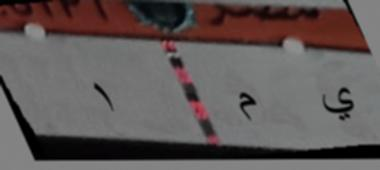1: (88, 76, 119, 118)
meem: (237, 89, 260, 124)
yaa: (317, 80, 359, 122)
